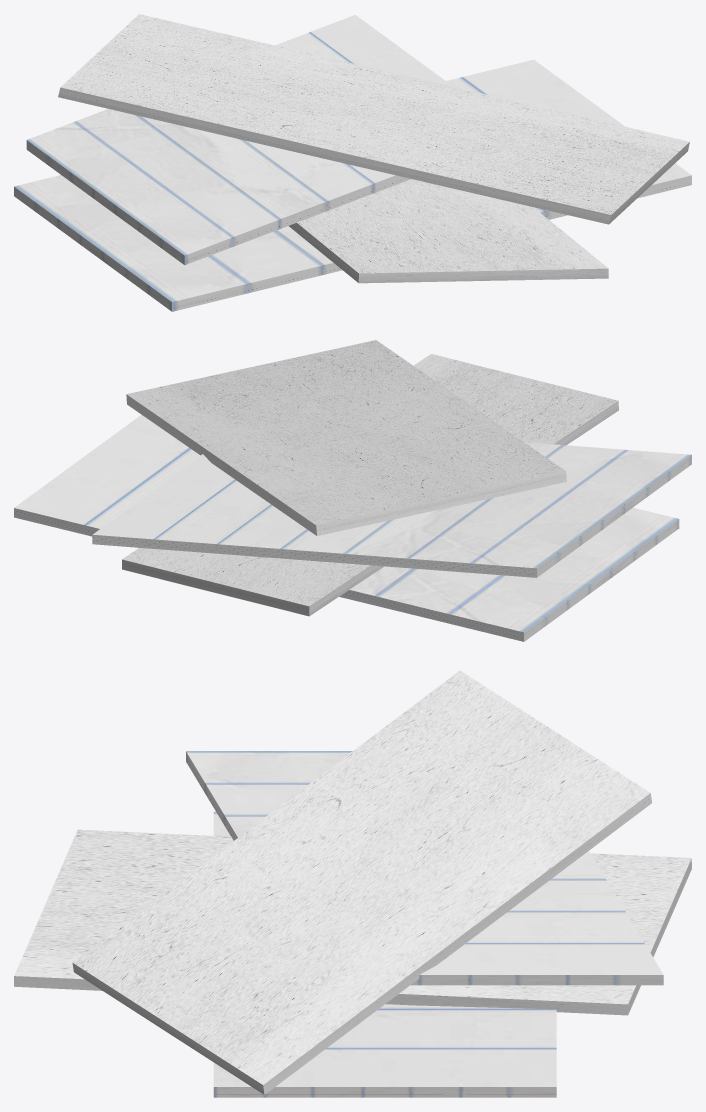
File: PileOfPaper1.fbx
3 renders of one model, top to bottom at view 1: azimuth 30°, elevation 25°; view 2: azimuth 150°, elevation 25°; view 3: azimuth 270°, elevation 25°, orthographic. The views are drawn at different scales.
Parts seen in each view (by area): view 1: Cube.003, Cube.001, Cube, Cube.002; view 2: Cube.003, Cube.001, Cube.002, Cube; view 3: Cube.003, Cube, Cube.001, Cube.002.
Part boxes in pixels (<box>): Cube.003: <box>58,14,689,224</box>; Cube.001: <box>26,15,453,265</box>; Cube: <box>289,179,608,283</box>; Cube.002: <box>14,59,691,311</box>; Cube.003: <box>126,340,566,535</box>; Cube.001: <box>92,442,691,577</box>; Cube.002: <box>14,414,679,641</box>; Cube: <box>122,354,618,616</box>; Cube.003: <box>72,670,652,1094</box>; Cube: <box>14,829,691,1015</box>; Cube.001: <box>186,751,663,985</box>; Cube.002: <box>213,811,556,1097</box>.
Bounding box in the file's own units: 233 × 58.01 × 233.
